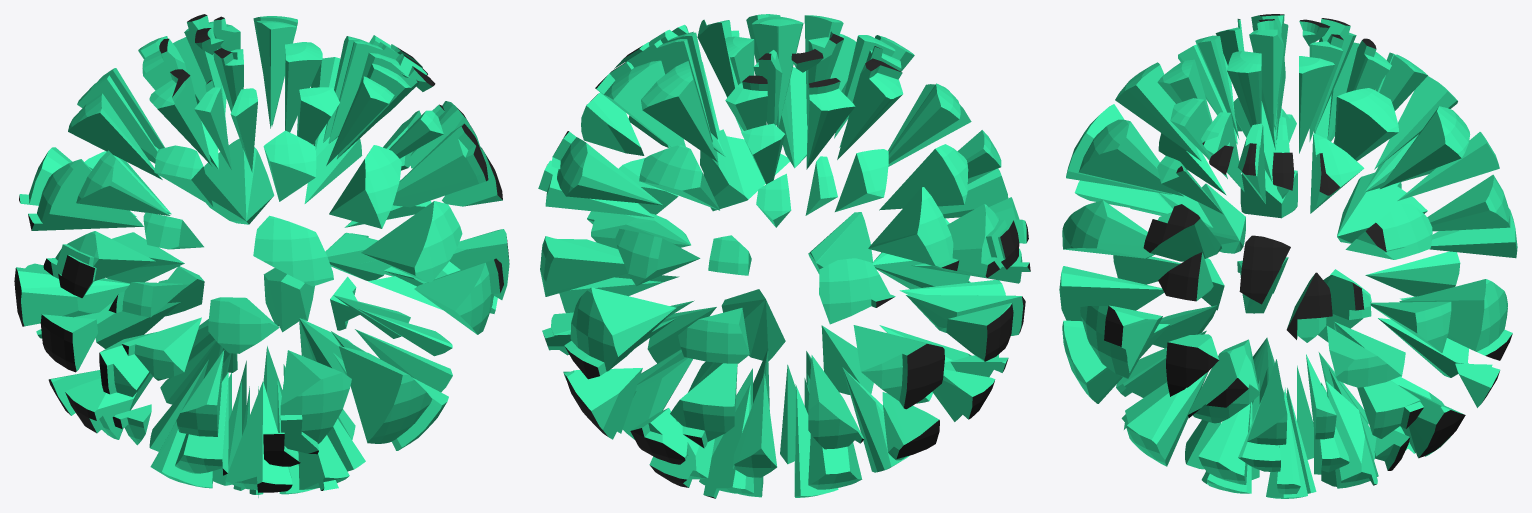
The model's file is explodedworld2.fbx.
3 renders of one model, left to right at view 1: azimuth 30°, elevation 25°; view 2: azimuth 150°, elevation 25°; view 3: azimuth 270°, elevation 25°, orthographic. The views are drawn at different scales.
Visible parts, largest first — view 1: Sphere_cell.072, Sphere_cell.094, Sphere_cell.014, Sphere_cell.007, Sphere_cell.065, Sphere_cell.039, Sphere_cell.024, Sphere_cell.080, Sphere_cell.069, Sphere_cell.087, Sphere_cell.093, Sphere_cell.002 (+63 smaller); view 2: Sphere_cell.024, Sphere_cell.039, Sphere_cell.065, Sphere_cell.027, Sphere_cell.023, Sphere_cell.045, Sphere_cell.043, Sphere_cell.097, Sphere_cell.028, Sphere_cell.069, Sphere_cell.098, Sphere_cell.002 (+58 smaller); view 3: Sphere_cell.024, Sphere_cell.087, Sphere_cell.069, Sphere_cell.089, Sphere_cell.014, Sphere_cell.023, Sphere_cell.094, Sphere_cell.008, Sphere_cell.049, Sphere_cell.027, Sphere_cell.007, Sphere_cell.021 (+69 smaller).
Boxes of the visible parts, x1,y1,x2,y2 form: Sphere_cell.072: [339, 346, 432, 443]; Sphere_cell.094: [280, 350, 351, 454]; Sphere_cell.014: [361, 201, 462, 282]; Sphere_cell.007: [393, 123, 488, 207]; Sphere_cell.065: [28, 159, 143, 230]; Sphere_cell.039: [14, 263, 129, 326]; Sphere_cell.024: [204, 138, 274, 224]; Sphere_cell.080: [253, 215, 333, 286]; Sphere_cell.069: [414, 258, 503, 334]; Sphere_cell.087: [329, 145, 401, 228]; Sphere_cell.093: [225, 381, 292, 497]; Sphere_cell.002: [76, 150, 170, 215]; Sphere_cell.024: [564, 287, 676, 379]; Sphere_cell.039: [853, 325, 944, 409]; Sphere_cell.065: [868, 187, 959, 270]; Sphere_cell.027: [551, 131, 662, 205]; Sphere_cell.023: [641, 61, 717, 162]; Sphere_cell.045: [670, 363, 737, 448]; Sphere_cell.043: [819, 258, 895, 324]; Sphere_cell.097: [564, 368, 642, 439]; Sphere_cell.028: [540, 236, 627, 296]; Sphere_cell.069: [700, 129, 789, 211]; Sphere_cell.098: [929, 204, 1006, 277]; Sphere_cell.002: [879, 144, 968, 210]; Sphere_cell.024: [1399, 279, 1512, 360]; Sphere_cell.087: [1078, 119, 1183, 196]; Sphere_cell.069: [1080, 305, 1162, 378]; Sphere_cell.089: [1188, 339, 1259, 423]; Sphere_cell.014: [1062, 200, 1154, 258]; Sphere_cell.023: [1334, 88, 1398, 160]; Sphere_cell.094: [1059, 266, 1164, 321]; Sphere_cell.008: [1380, 106, 1470, 188]; Sphere_cell.049: [1126, 371, 1208, 466]; Sphere_cell.027: [1345, 203, 1432, 259]; Sphere_cell.007: [1143, 204, 1221, 261]; Sphere_cell.021: [1427, 174, 1510, 231].
Size of the model in its own units: 444 by 435 by 416.
